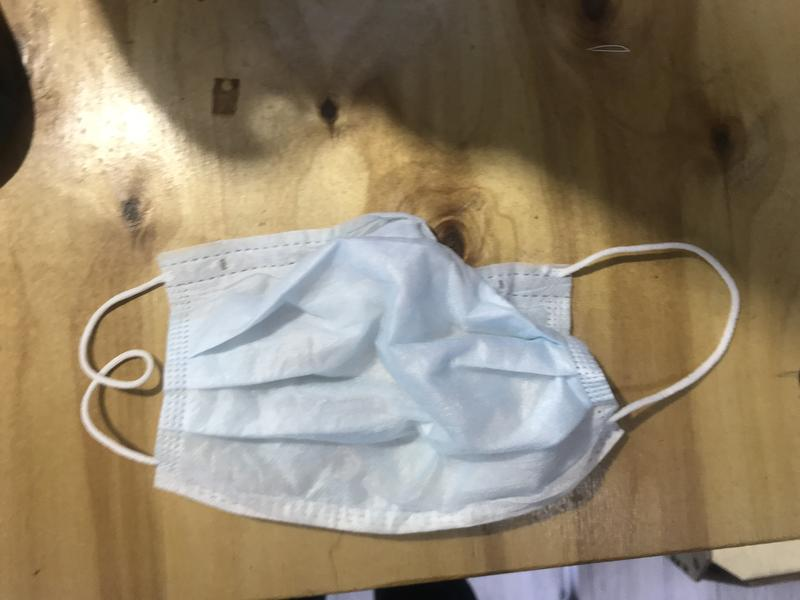medical_mask: (80, 213, 740, 535)
